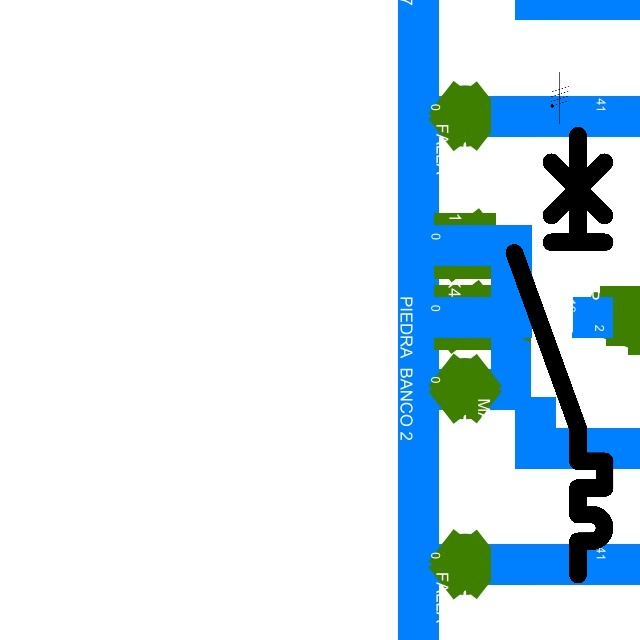interruptor_termomagnetico: (503, 124, 616, 586)
